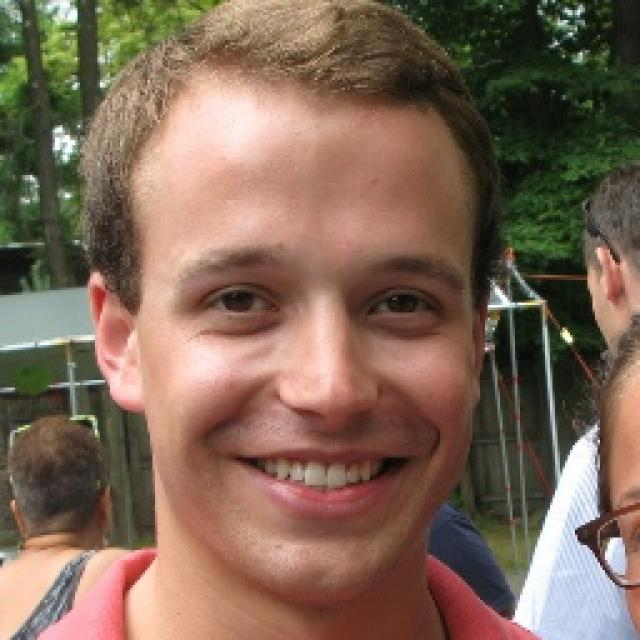earlobe: (87, 269, 146, 412)
